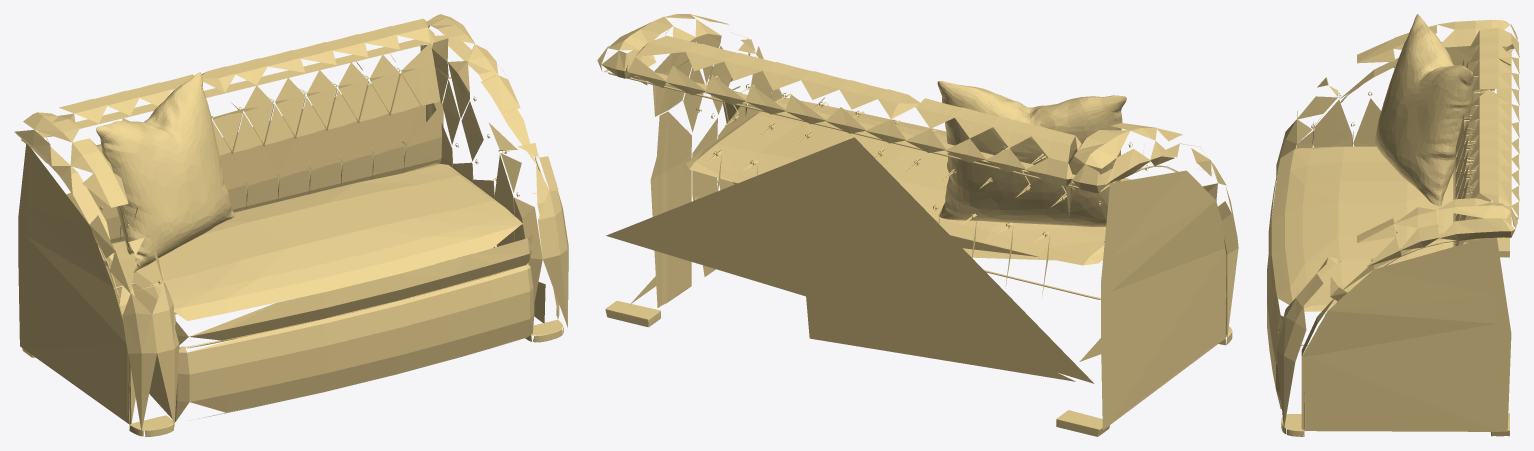
File: isho-round-sofa.glb
3 renders of one model, left to right at view 1: azimuth 30°, elevation 25°; view 2: azimuth 150°, elevation 25°; view 3: azimuth 270°, elevation 25°, orthographic. The views are drawn at different scales.
Visible parts, largest first — view 1: geometry_0; view 2: geometry_0; view 3: geometry_0.
Part boxes in pixels (left/top/right/bottom): geometry_0: left=14, top=14, right=568, bottom=436; geometry_0: left=597, top=14, right=1238, bottom=436; geometry_0: left=1267, top=14, right=1519, bottom=436.
Size of the model in its own units: 2 by 1.1 by 1.05.
